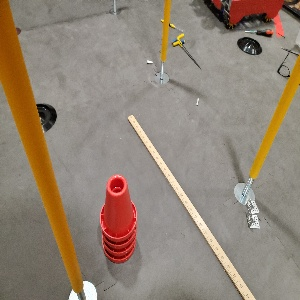Red_4: (95, 172, 140, 265)
